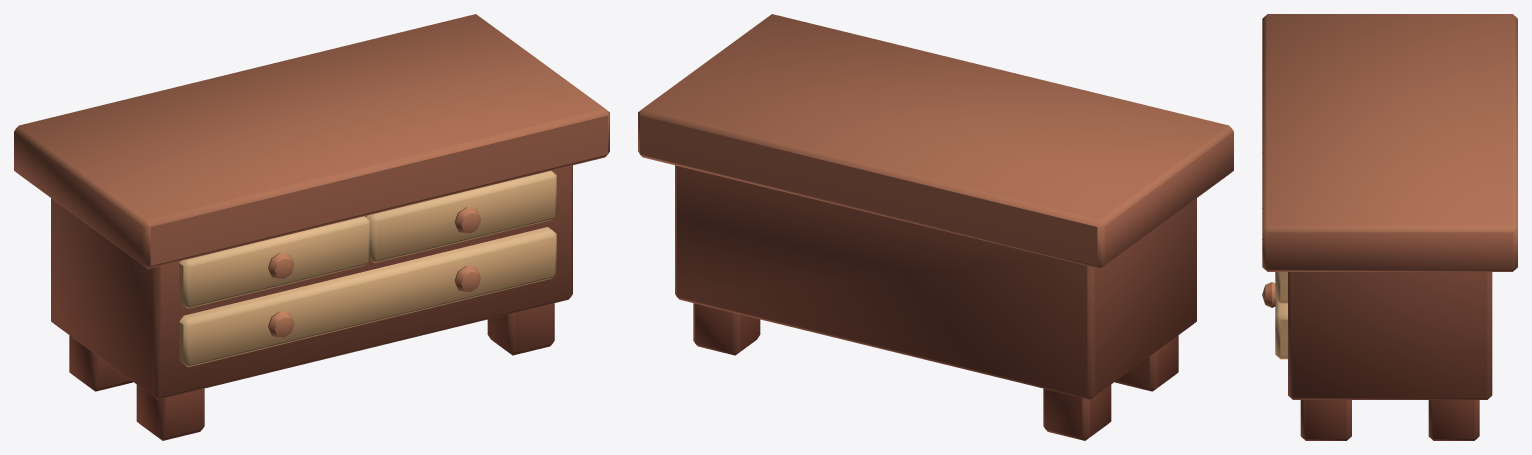
File: cabinet-medium.glb
3 views of the same model, side by side, from view 1: azimuth 30°, elevation 25°; view 2: azimuth 150°, elevation 25°; view 3: azimuth 270°, elevation 25° (orthographic). The views are drawn at different scales.
Parts seen in each view (by area): view 1: cabinet_medium; view 2: cabinet_medium; view 3: cabinet_medium.
Part boxes in pixels (x1,y1,x2,y2): cabinet_medium: [14, 14, 609, 440]; cabinet_medium: [638, 14, 1233, 440]; cabinet_medium: [1262, 14, 1517, 440].
Bounding box in the file's own units: 2 × 1 × 1.
1 material, 1 textured.
